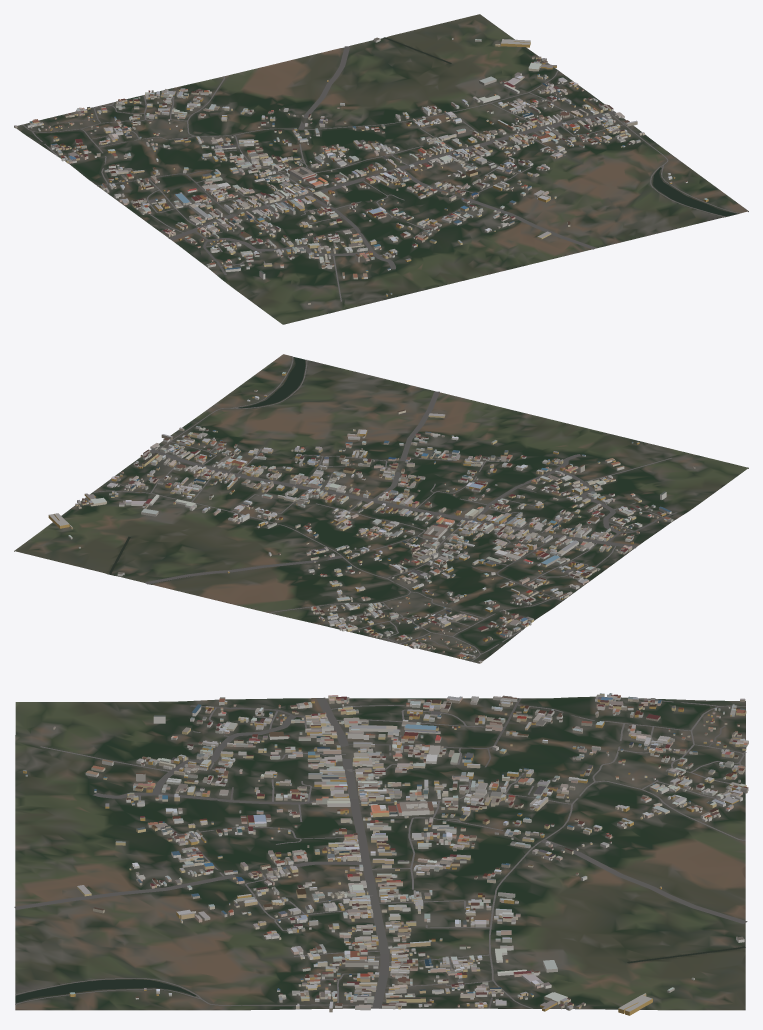
3 views of the same model, one above another, from view 1: azimuth 30°, elevation 25°; view 2: azimuth 150°, elevation 25°; view 3: azimuth 270°, elevation 25° (orthographic). The views are drawn at different scales.
Visible parts, largest first — view 1: ground, buildings, roads, water; view 2: ground, buildings, roads, water; view 3: ground, buildings, roads, water.
Part boxes in pixels (left/top/right/bottom): ground: left=16, top=14, right=748, bottom=324; buildings: left=14, top=37, right=708, bottom=304; roads: left=22, top=46, right=740, bottom=301; water: left=383, top=37, right=736, bottom=216; ground: left=14, top=354, right=748, bottom=663; buildings: left=48, top=372, right=695, bottom=663; roads: left=92, top=356, right=677, bottom=661; water: left=109, top=357, right=305, bottom=582; ground: left=15, top=696, right=745, bottom=1010; buildings: left=23, top=693, right=748, bottom=1015; roads: left=14, top=697, right=747, bottom=1008; water: left=15, top=946, right=745, bottom=1002.
Size of the model in its own units: 1429 by 25.4 by 1409.
